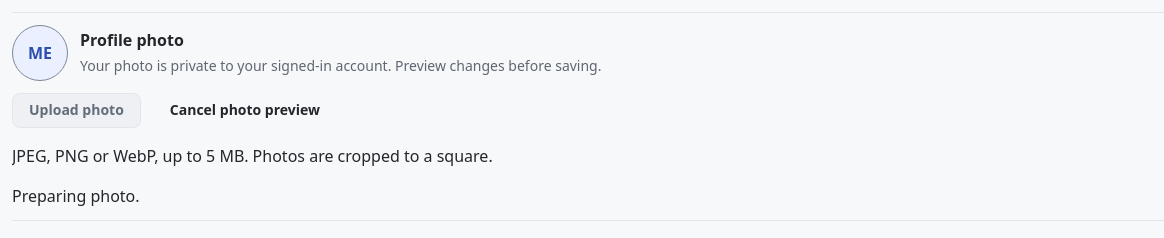
Test: keeps cancellation authoritative while image decoding is pending and restores focus
The width and height of the screenshot is (1164, 238).
Earlier steps of the test are not shown.
Later steps or results of the test are not shown.
Expected: the button "Upload photo" is disabled, [12,93,141,128]
Click the button "Cancel photo preview" at (245, 110), box [153,93,337,128]
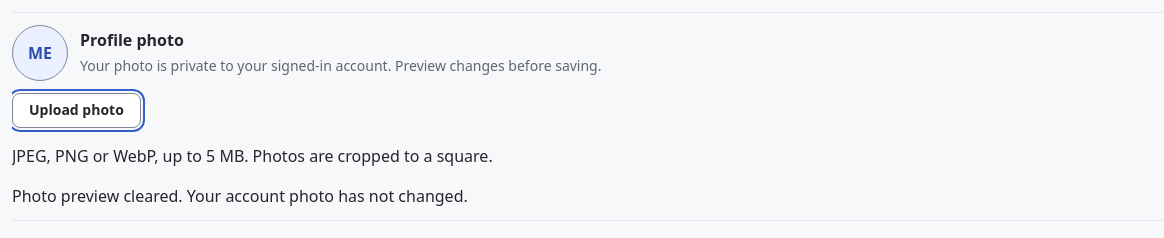
Result: the message shows "has not changed" at [12,185,468,207]
